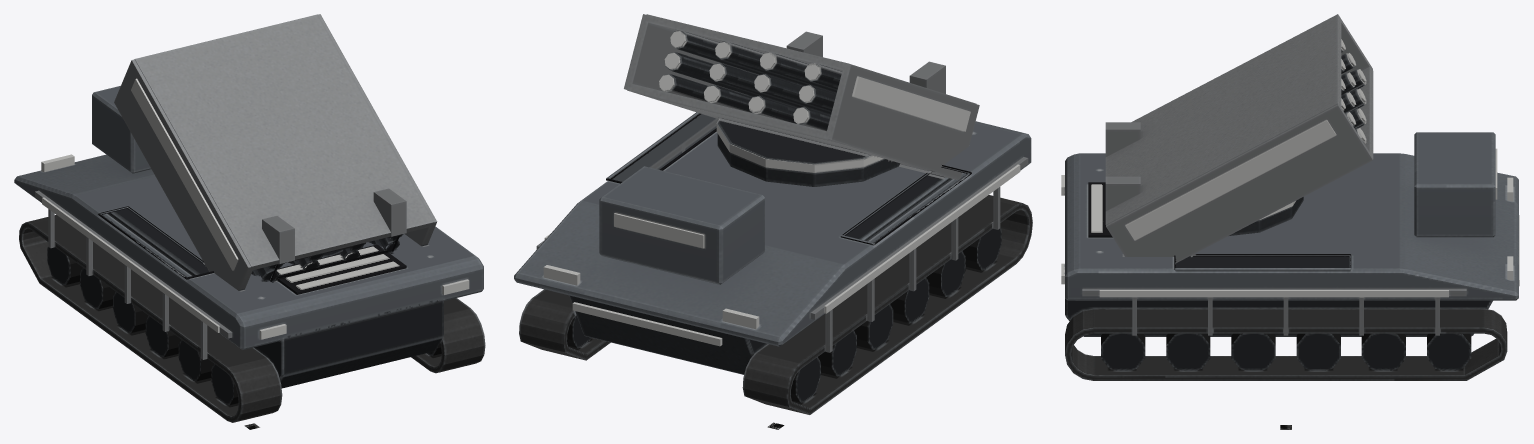
The model's file is chs_hydra.fbx.
3 renders of one model, left to right at view 1: azimuth 30°, elevation 25°; view 2: azimuth 150°, elevation 25°; view 3: azimuth 270°, elevation 25°, orthographic. The views are drawn at different scales.
Parts seen in each view (by area): view 1: base_bar, launcher_bar, base_glow_running_bar, launcher_glow_running_bar, turret_bar; view 2: base_bar, launcher_bar, turret_bar, base_glow_running_bar, launcher_glow_running_bar, launcher_glow_weapon_bar, turret_glow_running_bar, base_glow_head_bar; view 3: base_bar, launcher_bar, launcher_glow_running_bar, base_glow_running_bar, turret_bar, launcher_glow_weapon_bar.
Boxes of the visible parts, <box> form: base_bar: <box>14,85,485,422</box>; launcher_bar: <box>114,14,437,290</box>; base_glow_running_bar: <box>42,197,469,339</box>; launcher_glow_running_bar: <box>131,78,238,270</box>; turret_bar: <box>262,188,406,263</box>; base_bar: <box>514,112,1032,414</box>; launcher_bar: <box>624,14,979,179</box>; turret_bar: <box>716,31,945,186</box>; base_glow_running_bar: <box>544,164,1020,346</box>; launcher_glow_running_bar: <box>852,76,970,131</box>; launcher_glow_weapon_bar: <box>659,31,819,123</box>; turret_glow_running_bar: <box>716,124,883,172</box>; base_glow_head_bar: <box>543,265,759,329</box>; base_bar: <box>1065,132,1518,380</box>; launcher_bar: <box>1105,14,1373,263</box>; launcher_glow_running_bar: <box>1125,120,1336,240</box>; base_glow_running_bar: <box>1061,148,1519,297</box>; turret_bar: <box>1105,122,1303,235</box>; launcher_glow_weapon_bar: <box>1341,39,1366,141</box>.
Size of the model in its own units: 504 by 698 by 787.
Materials: 2 (2 with a texture image).
